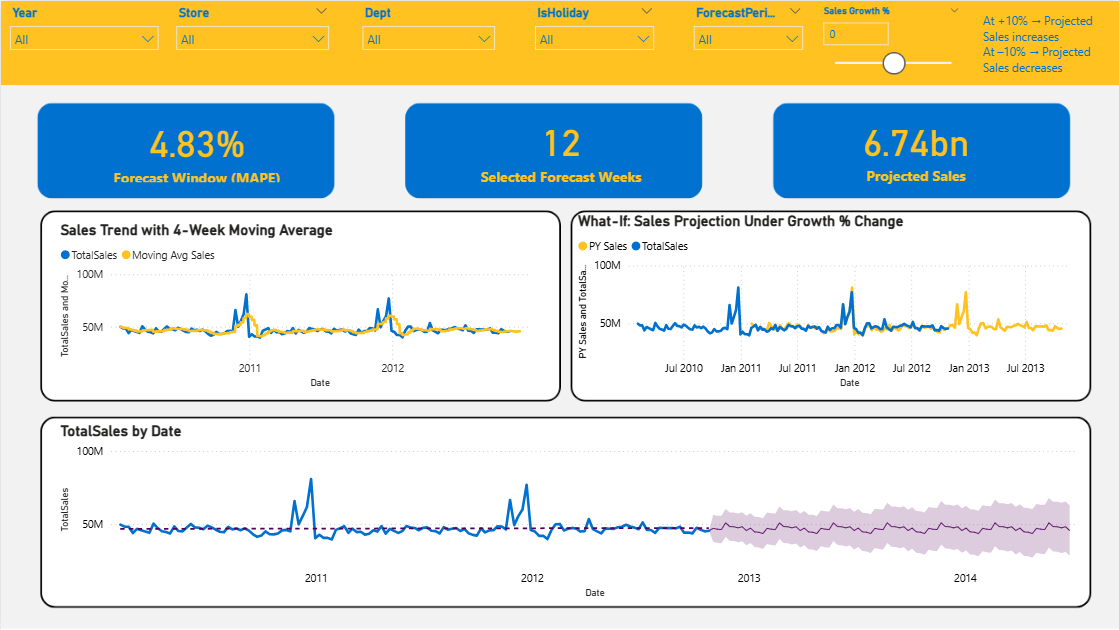

The dashboard page shown, as its layout file describes it:
{"tool":"powerbi","page":{"name":"Page 5","canvas":[1280,720],"ordinal":4},"visuals":[{"type":"slicer","fields":{"Values":["Sales Growth %.Sales Growth %"]},"box":[926.7,0,180,95],"z":0},{"type":"textbox","box":[1116.7,8.3,163.3,80],"z":1000},{"type":"lineChart","fields":{"Y":["Dim_Date.TotalSales"],"Category":["Dim_Date.Date"]},"box":[63.3,481.7,1176.7,206.7],"z":2000},{"type":"lineChart","title":"Sales Trend with 4-Week Moving Average","fields":{"Category":["Dim_Date.Date"],"Y":["Dim_Date.TotalSales","Category Parameter.Moving Avg Sales"]},"box":[63.3,251.7,548.3,196.7],"z":3000},{"type":"lineChart","title":"What-If: Sales Projection Under Growth % Change","fields":{"Category":["Dim_Date.Date"],"Y":["Dim_Date.PY Sales","Dim_Date.TotalSales"]},"box":[655,241.7,585,206.7],"z":4000},{"type":"card","title":"Forecast Window (MAPE)","fields":{"Values":["Category Parameter.MAPE"]},"box":[110,126.7,228.3,85],"z":5000},{"type":"slicer","fields":{"Values":["Dim_Date.Year"]},"box":[0,0,190,65],"z":6000},{"type":"slicer","fields":{"Values":["stores.Store"]},"box":[190,0,195,65],"z":7000},{"type":"slicer","fields":{"Values":["train.Dept"]},"box":[403.3,0,171.7,65],"z":8000},{"type":"slicer","fields":{"Values":["features.IsHoliday"]},"box":[600,0,156.7,65],"z":9000},{"type":"slicer","fields":{"Values":["ForecastPeriod.ForecastPeriod"]},"box":[781.7,0,145,75],"z":10000},{"type":"card","fields":{"Values":["ForecastPeriod.Selected Forecast Weeks"]},"box":[538.3,115,203.3,106.7],"z":11000},{"type":"card","fields":{"Values":["Category Parameter.Projected Sales"]},"box":[910,120,271.7,96.7],"z":12000}]}

Visuals, with their boxes in screenshot pixels (x1, y1, x2, y2), scaled from the page's 1280x720 canvas onto the 1119x630 screenshot:
slicer - Sales Growth %.Sales Growth %: 810/0/967/83
textbox: 976/7/1118/77
lineChart - Dim_Date.TotalSales x Dim_Date.Date: 55/421/1084/602
"Sales Trend with 4-Week Moving Average" lineChart: 55/220/535/392
"What-If: Sales Projection Under Growth % Change" lineChart: 573/211/1084/392
"Forecast Window (MAPE)" card: 96/111/296/185
slicer - Dim_Date.Year: 0/0/166/57
slicer - stores.Store: 166/0/337/57
slicer - train.Dept: 353/0/503/57
slicer - features.IsHoliday: 525/0/662/57
slicer - ForecastPeriod.ForecastPeriod: 683/0/810/66
card - ForecastPeriod.Selected Forecast Weeks: 471/101/648/194
card - Category Parameter.Projected Sales: 796/105/1033/190
